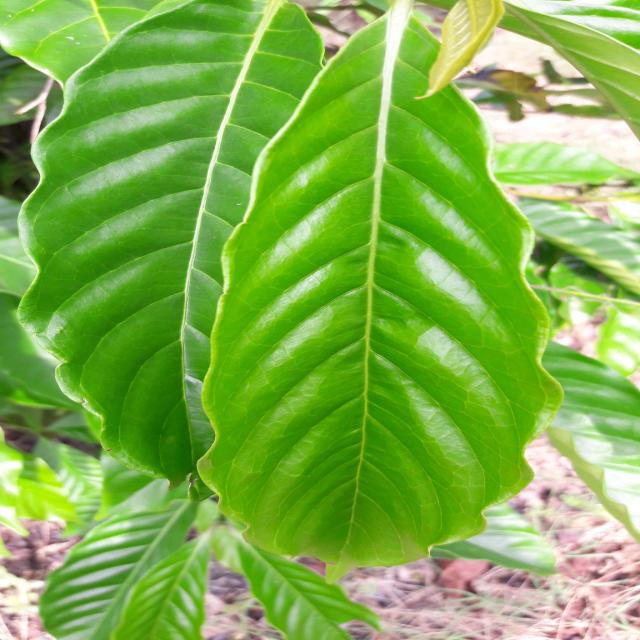Sanas: (192, 16, 563, 585)
